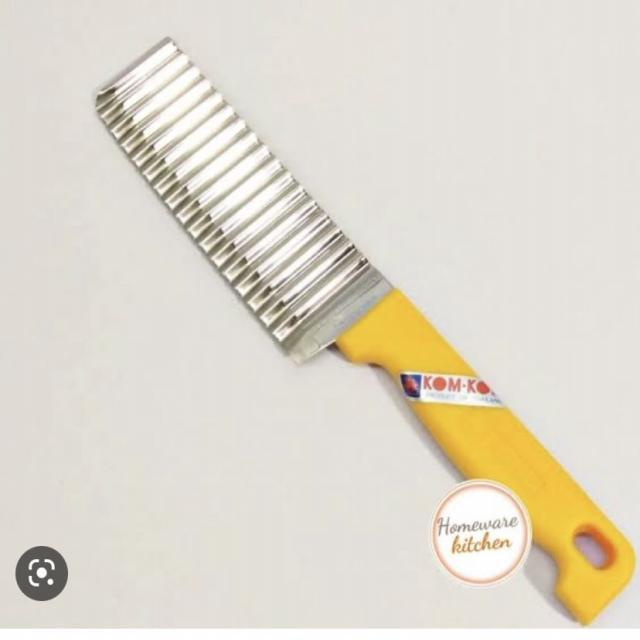Knife: (82, 31, 636, 628)
